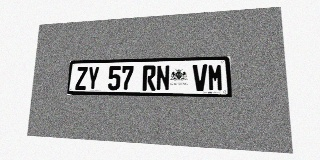5: (108, 66, 121, 90)
7: (120, 66, 134, 90)
M: (208, 64, 224, 91)
N: (156, 65, 170, 91)
R: (142, 65, 156, 91)
V: (193, 64, 208, 91)
Y: (87, 66, 100, 90)
Z: (75, 67, 88, 90)
